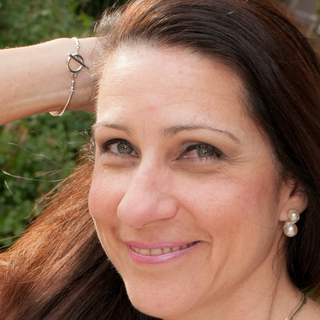eye: (175, 139, 227, 164), (97, 133, 140, 160)
